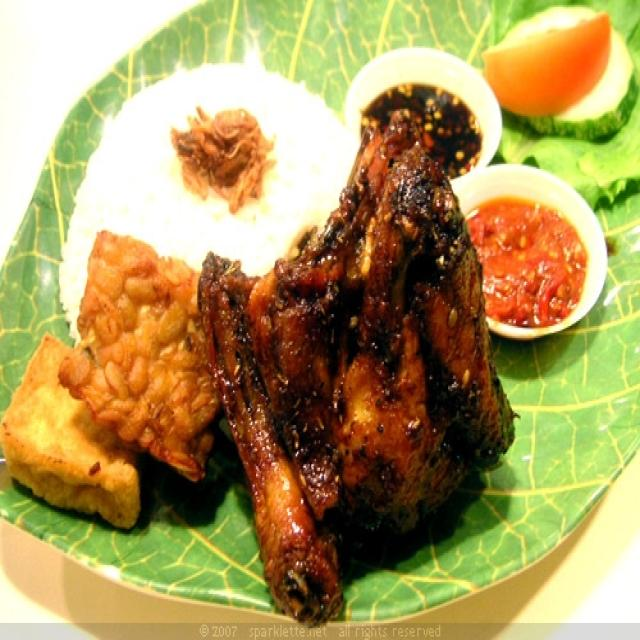鸡肉料理 含炸鸡: (36, 36, 626, 604)
